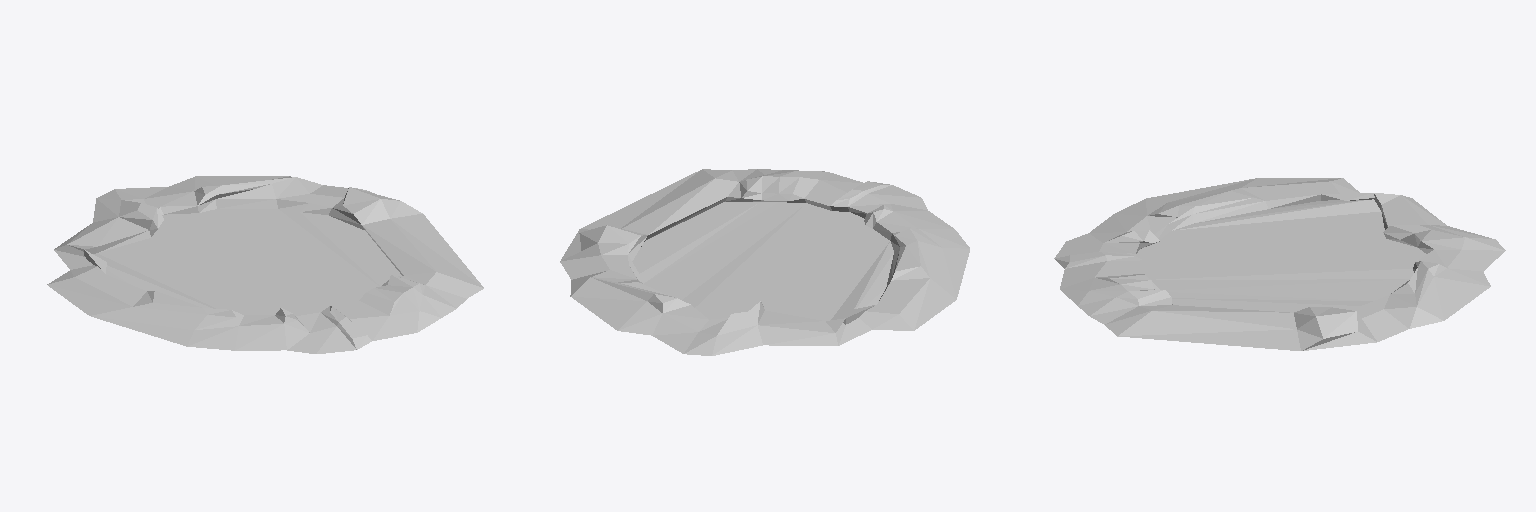
Rendered from LavaLevel.obj.
3 renders of one model, left to right at view 1: azimuth 30°, elevation 25°; view 2: azimuth 150°, elevation 25°; view 3: azimuth 270°, elevation 25°, orthographic.
Parts seen in each view (by area): view 1: pCube1; view 2: pCube1; view 3: pCube1.
Part boxes in pixels (x1,y1,x2,y2): pCube1: (47,176,483,353); pCube1: (560,169,969,355); pCube1: (1054,178,1505,350).
Bounding box in the file's own units: 2.57 × 0.1274 × 2.83.